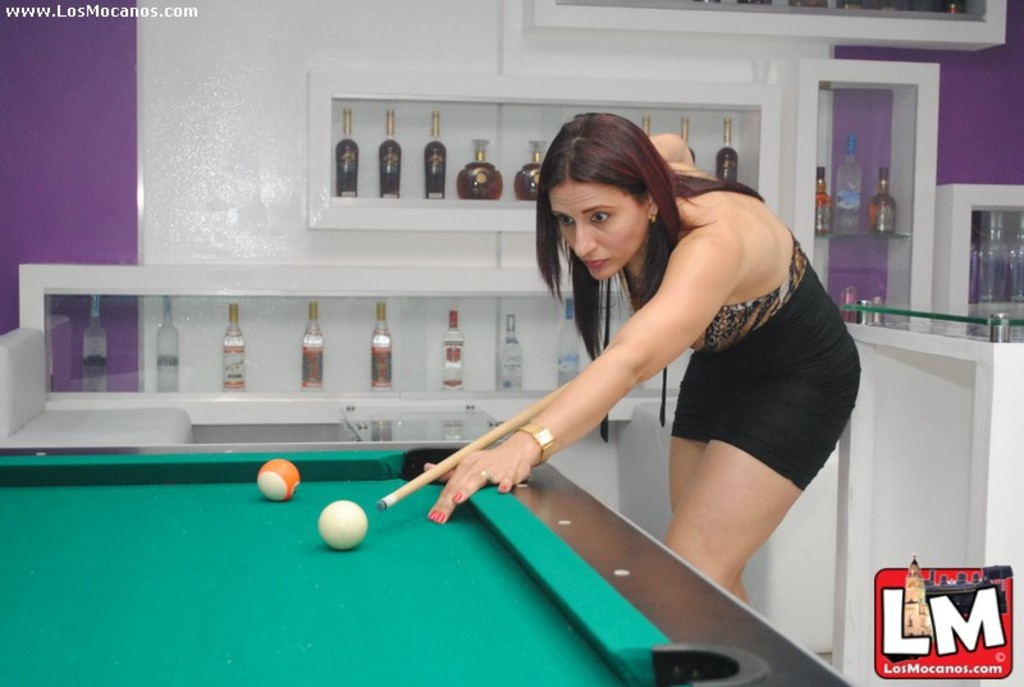Ball: (320, 503, 367, 554), (260, 461, 297, 501)
